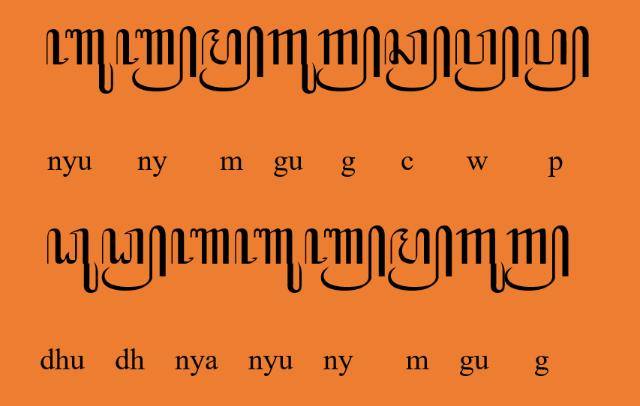-c: (384, 25, 450, 92)
-dh: (101, 225, 167, 291)
-g: (504, 226, 570, 292), (316, 25, 380, 92)
-m: (386, 224, 454, 292), (200, 26, 264, 92)
-ny: (304, 225, 386, 293), (115, 25, 197, 92)
-p: (524, 25, 590, 93)
-w: (454, 25, 520, 92)
dhu: (46, 228, 98, 294)
gu: (267, 29, 317, 95), (456, 228, 506, 294)
ny1: (170, 227, 230, 265)
nyu1: (46, 28, 114, 94), (234, 228, 302, 294)
